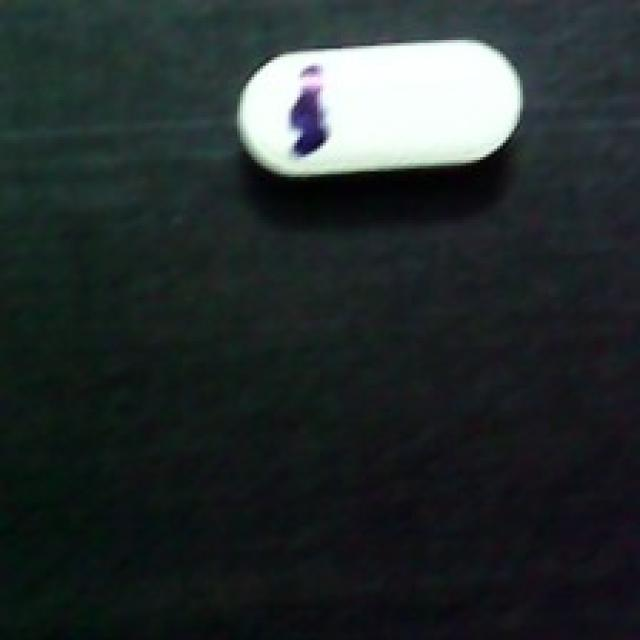defected: (229, 26, 526, 186)
